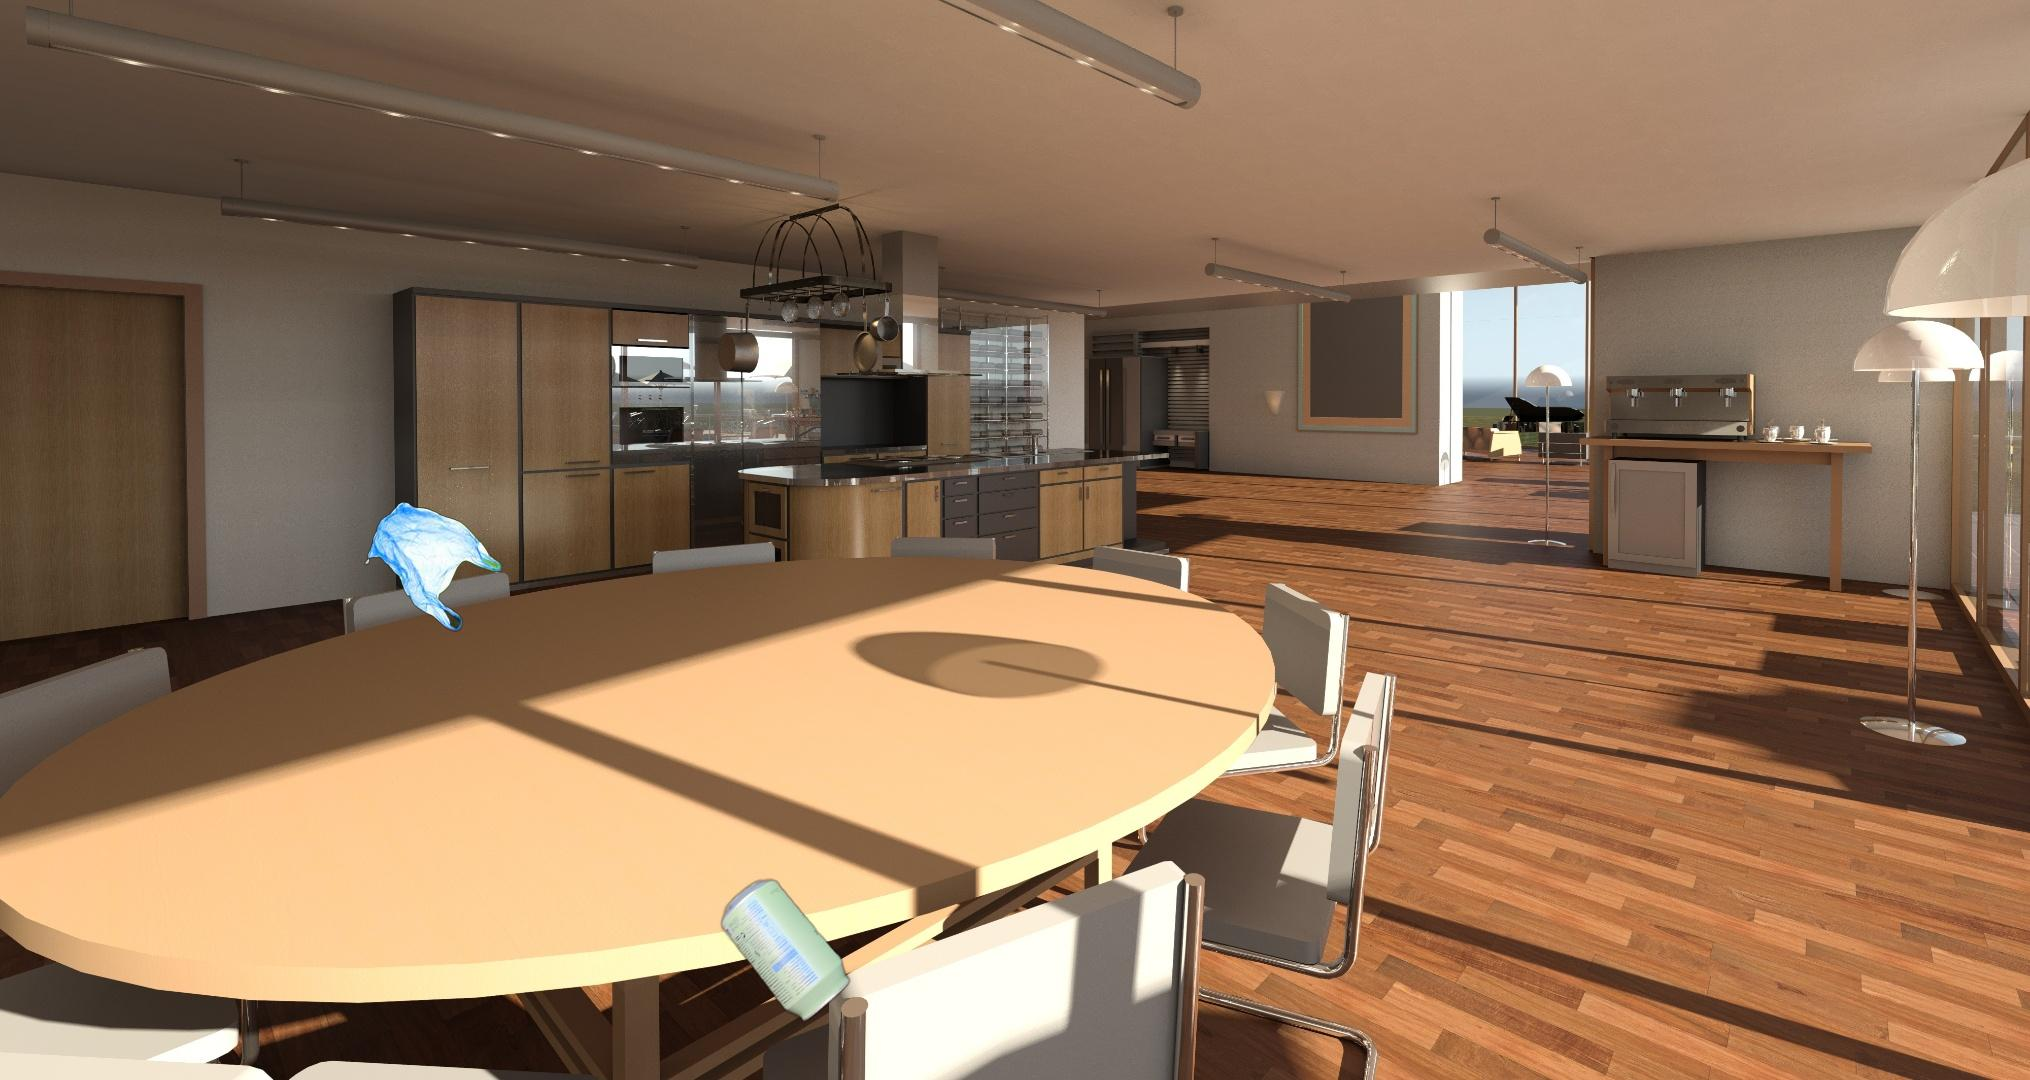metal-cans: (717, 874, 855, 1028)
plastic-bag: (362, 498, 503, 634)
